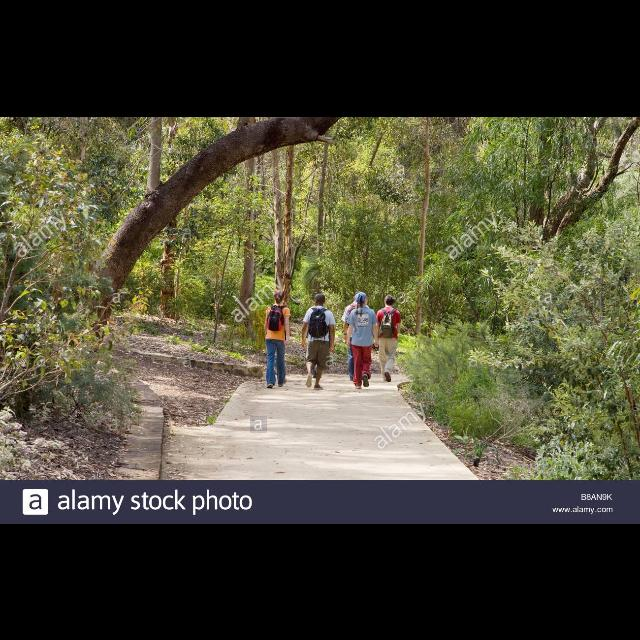head: (314, 293, 326, 307), (274, 289, 286, 301), (357, 292, 369, 304), (384, 294, 396, 306), (354, 290, 364, 302)
person: (300, 292, 336, 391), (346, 290, 380, 390), (341, 290, 375, 382), (263, 287, 293, 388), (373, 294, 403, 384)
